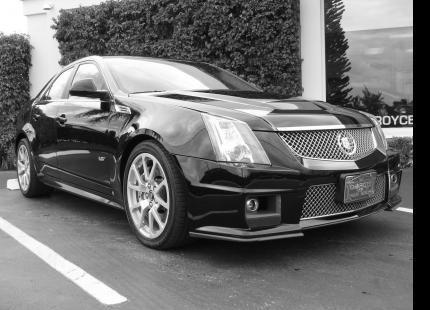car: (15, 55, 405, 250)
